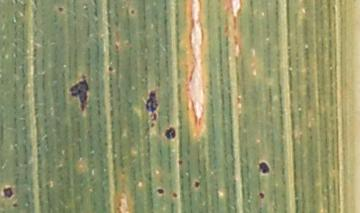tarspot: (70, 77, 89, 113), (145, 90, 158, 111), (258, 160, 270, 175), (164, 127, 176, 139), (3, 186, 13, 198), (107, 65, 115, 72), (193, 181, 201, 188), (259, 192, 266, 199), (130, 7, 136, 15), (152, 112, 158, 120), (156, 188, 164, 194), (57, 6, 64, 12), (171, 192, 178, 198), (150, 121, 156, 127), (178, 159, 183, 166), (12, 203, 18, 208)
